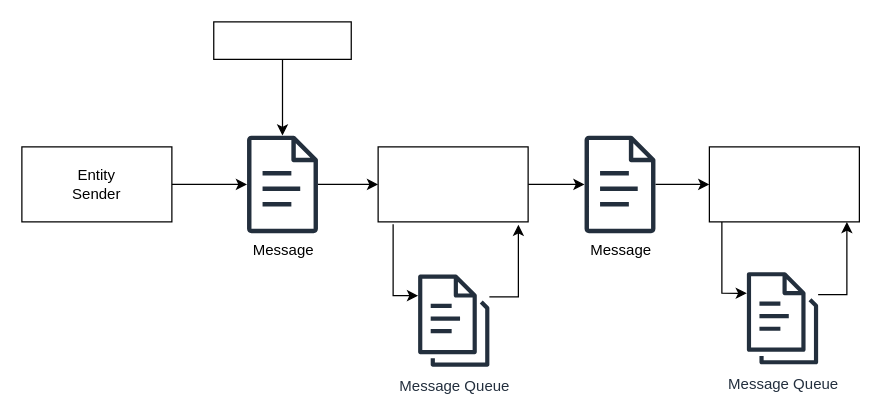
The diagram is 881 pixels wide and 418 high, and some of its shapes have lost their labels. The shapes that lost their labels are listed below. From the top down, each one's centre as x and y in pixels, then its label:
At (x=281, y=40): "Message Type".
At (x=452, y=184): "MessageRouter".
At (x=783, y=184): "Entity Receiver".
